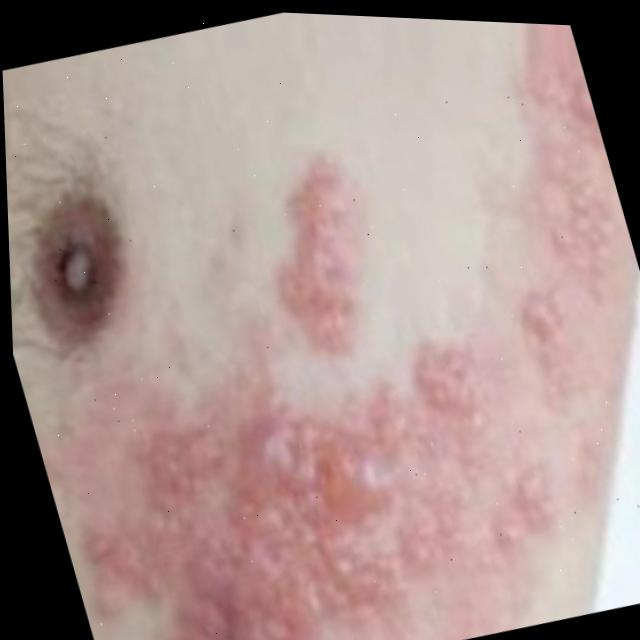Shingles: (43, 119, 640, 640)
